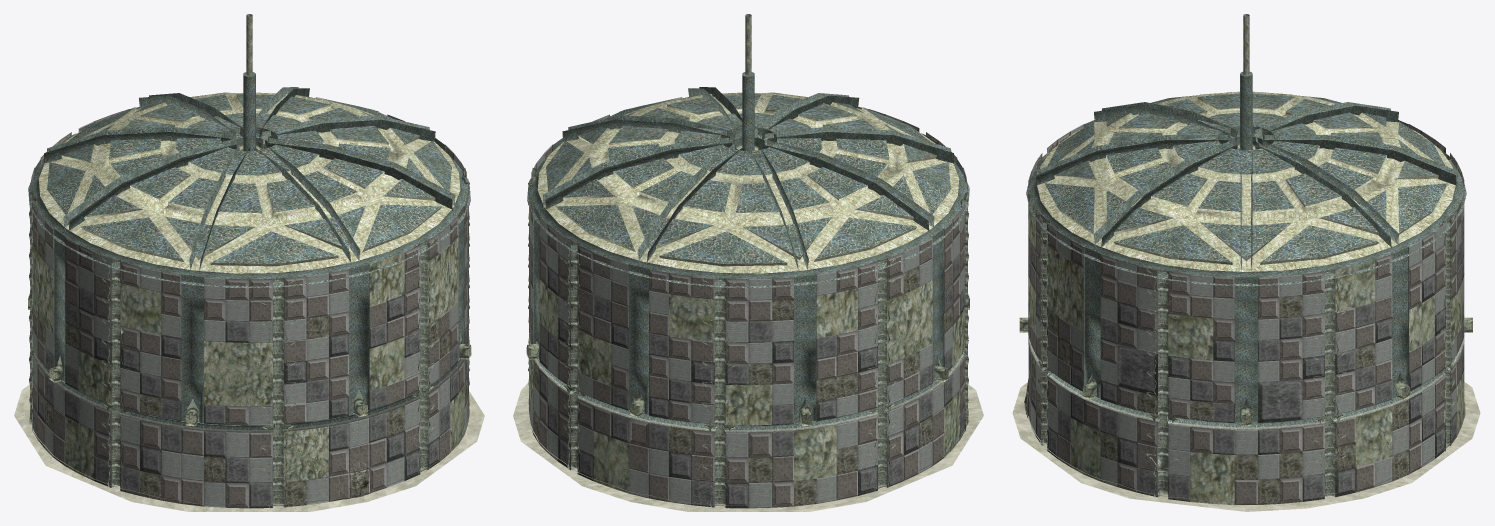
The picture shows the model from 3 angles, left to right: view 1: azimuth 30°, elevation 25°; view 2: azimuth 150°, elevation 25°; view 3: azimuth 270°, elevation 25°; orthographic projection.
Visible parts, largest first — view 1: Shape 7, Shape 0, Shape 8, Shape 10, Shape 12, Shape 1, Shape 2, Shape 11, Shape 4, Shape 9; view 2: Shape 7, Shape 0, Shape 8, Shape 12, Shape 10, Shape 1, Shape 2, Shape 11, Shape 4, Shape 9; view 3: Shape 7, Shape 0, Shape 8, Shape 1, Shape 12, Shape 10, Shape 2, Shape 11, Shape 4, Shape 9.
Boxes of the visible parts, x1,y1,x2,y2 form: Shape 7: [28, 72, 470, 423]; Shape 0: [30, 109, 468, 508]; Shape 8: [38, 92, 460, 273]; Shape 10: [28, 104, 471, 481]; Shape 12: [31, 141, 468, 507]; Shape 1: [30, 230, 468, 508]; Shape 2: [29, 118, 469, 508]; Shape 11: [37, 232, 467, 507]; Shape 4: [14, 384, 484, 511]; Shape 9: [31, 127, 468, 432]; Shape 7: [527, 72, 969, 423]; Shape 0: [529, 106, 967, 507]; Shape 8: [537, 92, 959, 273]; Shape 12: [530, 104, 967, 508]; Shape 10: [526, 145, 969, 493]; Shape 1: [529, 229, 967, 508]; Shape 2: [528, 119, 968, 508]; Shape 11: [529, 266, 952, 506]; Shape 4: [513, 383, 983, 511]; Shape 9: [529, 127, 967, 432]; Shape 7: [1026, 71, 1466, 422]; Shape 0: [1027, 124, 1464, 504]; Shape 8: [1037, 91, 1455, 271]; Shape 1: [1028, 242, 1464, 501]; Shape 12: [1028, 124, 1464, 486]; Shape 10: [1019, 144, 1472, 504]; Shape 2: [1037, 144, 1455, 499]; Shape 11: [1024, 295, 1408, 504]; Shape 4: [1012, 382, 1480, 511]; Shape 9: [1028, 126, 1464, 429].
Bounding box in the file's own units: 21633 × 20590 × 21633.
